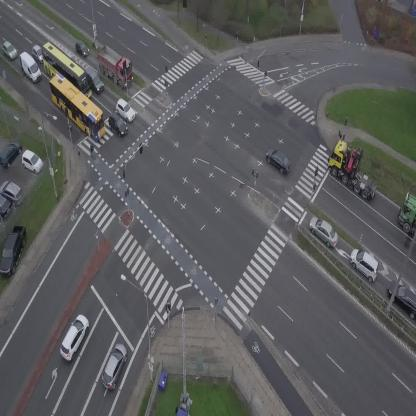bicycle: (88, 144, 95, 158)
bus: (41, 71, 115, 142), (32, 41, 101, 103)
car: (55, 311, 93, 362), (97, 341, 131, 391), (344, 245, 386, 283), (304, 212, 344, 249), (262, 143, 296, 176), (104, 111, 131, 138), (112, 97, 138, 124), (83, 65, 106, 94), (71, 37, 92, 59), (0, 40, 20, 62), (31, 44, 42, 64), (67, 53, 76, 61)
lorry: (319, 135, 394, 204), (88, 40, 142, 91), (13, 49, 45, 86), (399, 193, 416, 236)
